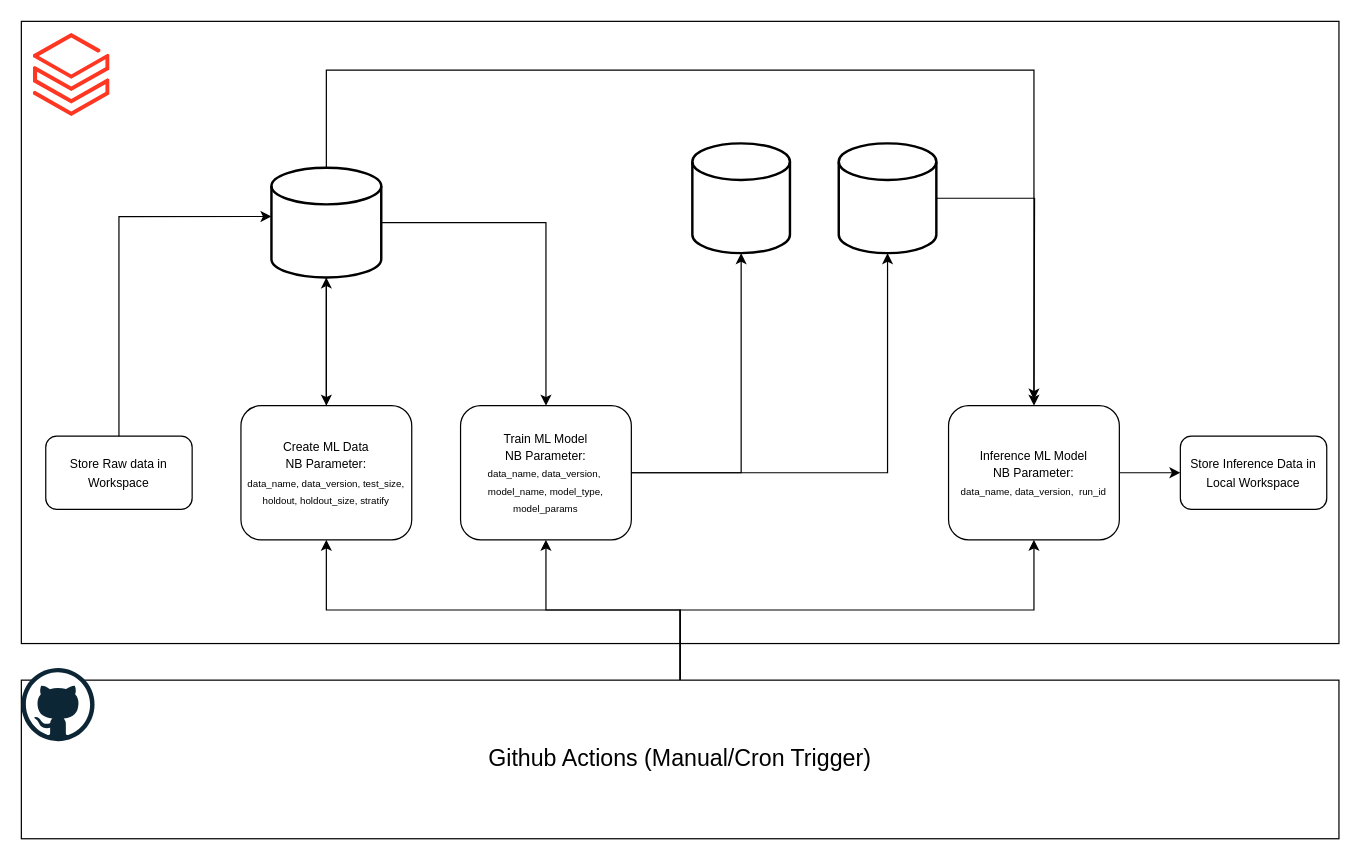
Some shapes in this 1360 by 860 pixel diagram are drawn without their labels. Here are the shapes that lost their labels. From the top down, the box of each, then its label:
(691, 142, 791, 254): Databricks Experiments
(837, 142, 937, 254): Local Model Registry
(270, 166, 382, 278): Local Workspace Storage
